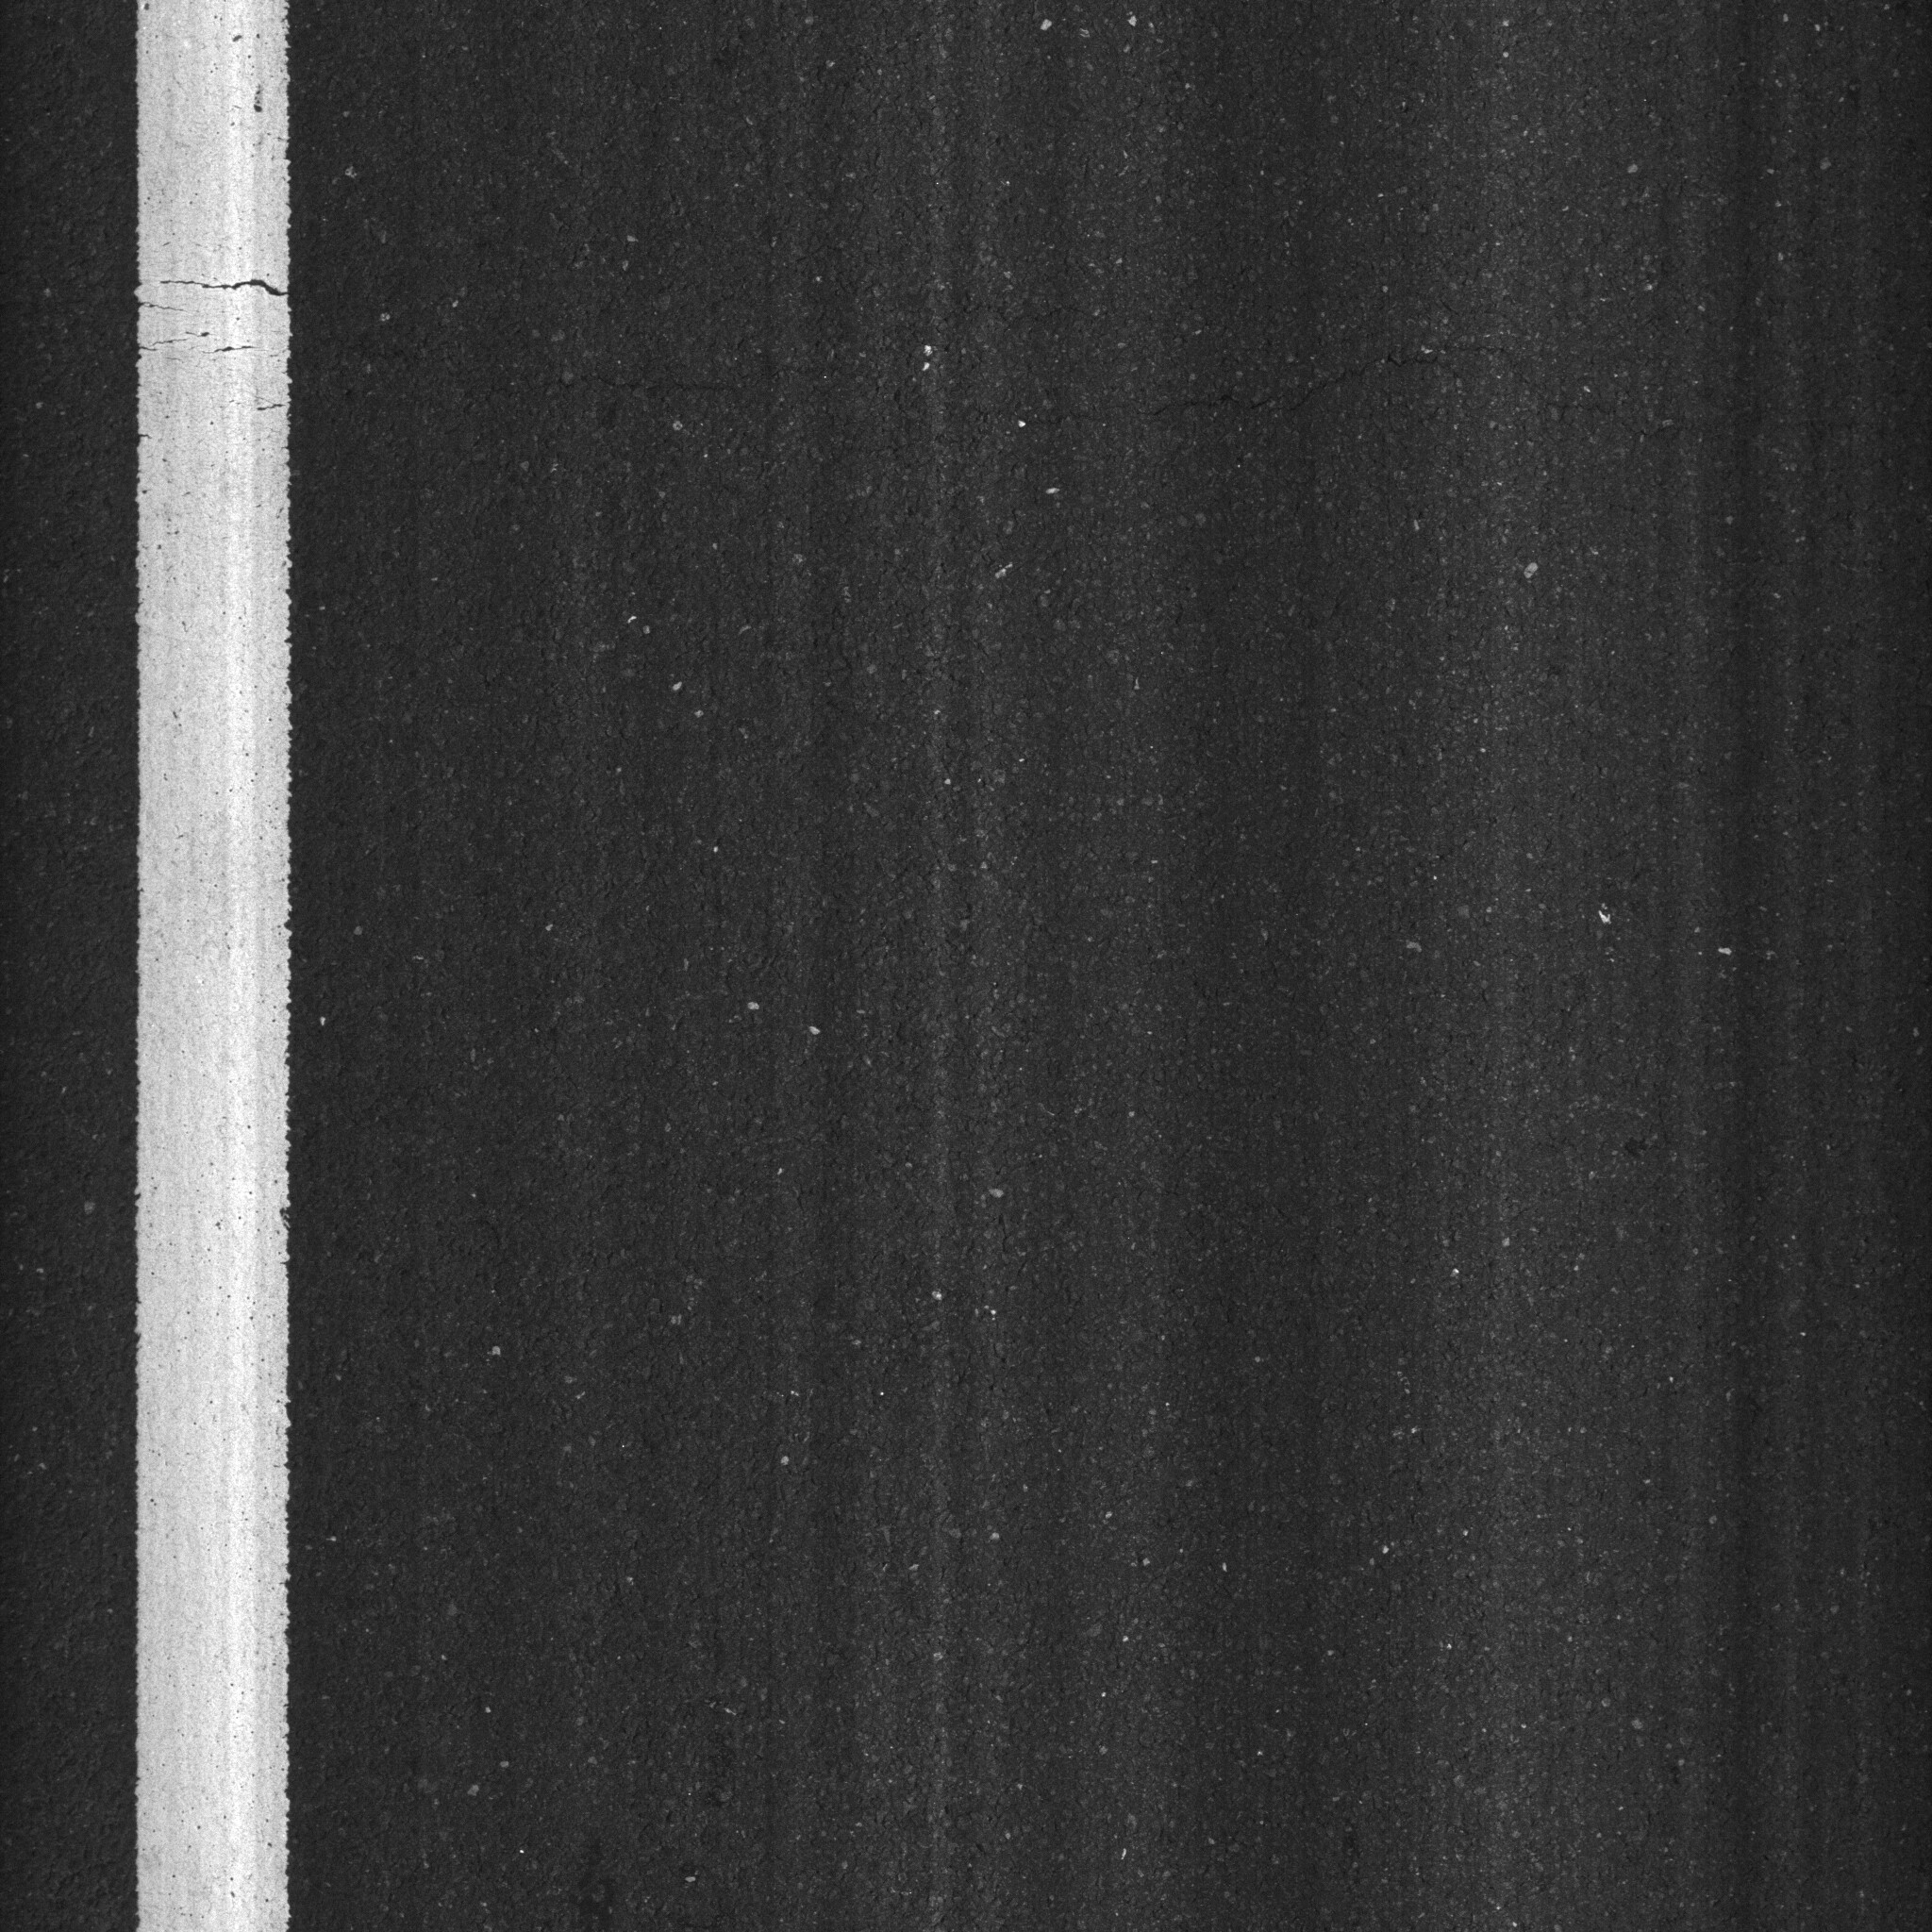transeverse: (536, 340, 1730, 451)
